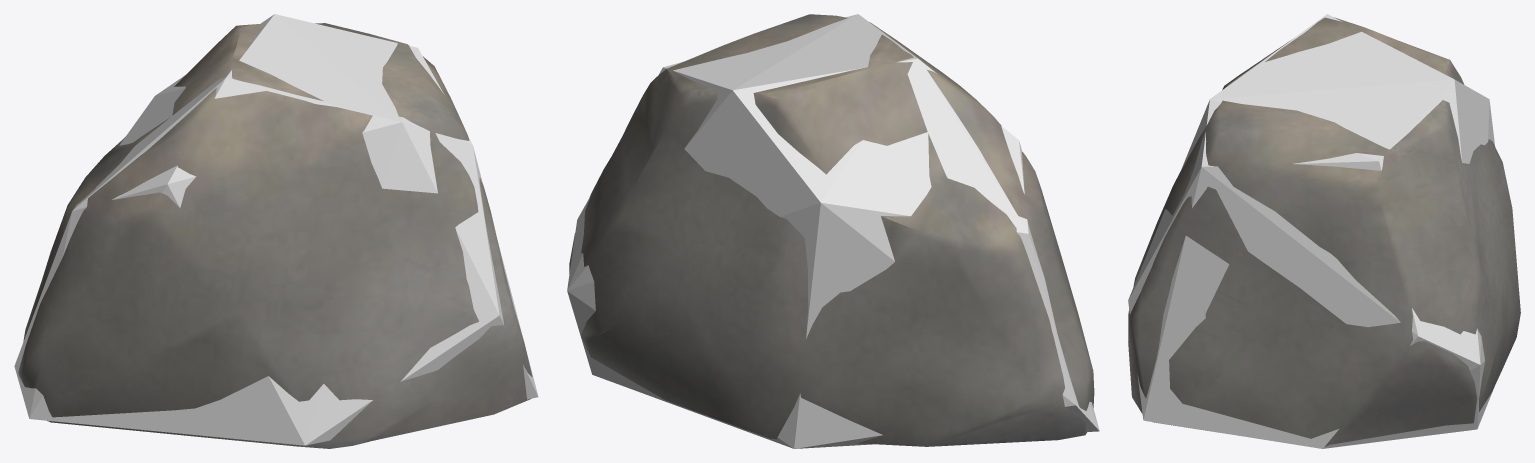
The model's file is IO_Campfire_Stone_A.glb.
3 renders of one model, left to right at view 1: azimuth 30°, elevation 25°; view 2: azimuth 150°, elevation 25°; view 3: azimuth 270°, elevation 25°, orthographic. The views are drawn at different scales.
Parts seen in each view (by area): view 1: IO_Campfire_Stone_A_LOD0, IO_Campfire_Stone_A_COL; view 2: IO_Campfire_Stone_A_LOD0, IO_Campfire_Stone_A_COL; view 3: IO_Campfire_Stone_A_LOD0, IO_Campfire_Stone_A_COL.
Part boxes in pixels (x1=…): IO_Campfire_Stone_A_LOD0: x1=18, y1=23, x2=532, y2=448; IO_Campfire_Stone_A_COL: x1=14, y1=14, x2=538, y2=445; IO_Campfire_Stone_A_LOD0: x1=569, y1=14, x2=1094, y2=446; IO_Campfire_Stone_A_COL: x1=567, y1=14, x2=1099, y2=448; IO_Campfire_Stone_A_LOD0: x1=1128, y1=17, x2=1520, y2=446; IO_Campfire_Stone_A_COL: x1=1128, y1=14, x2=1494, y2=448.
Size of what is drawn, in the model's own units: 0.4226 by 0.268 by 0.3122.
Materials: 1 (1 with a texture image).
